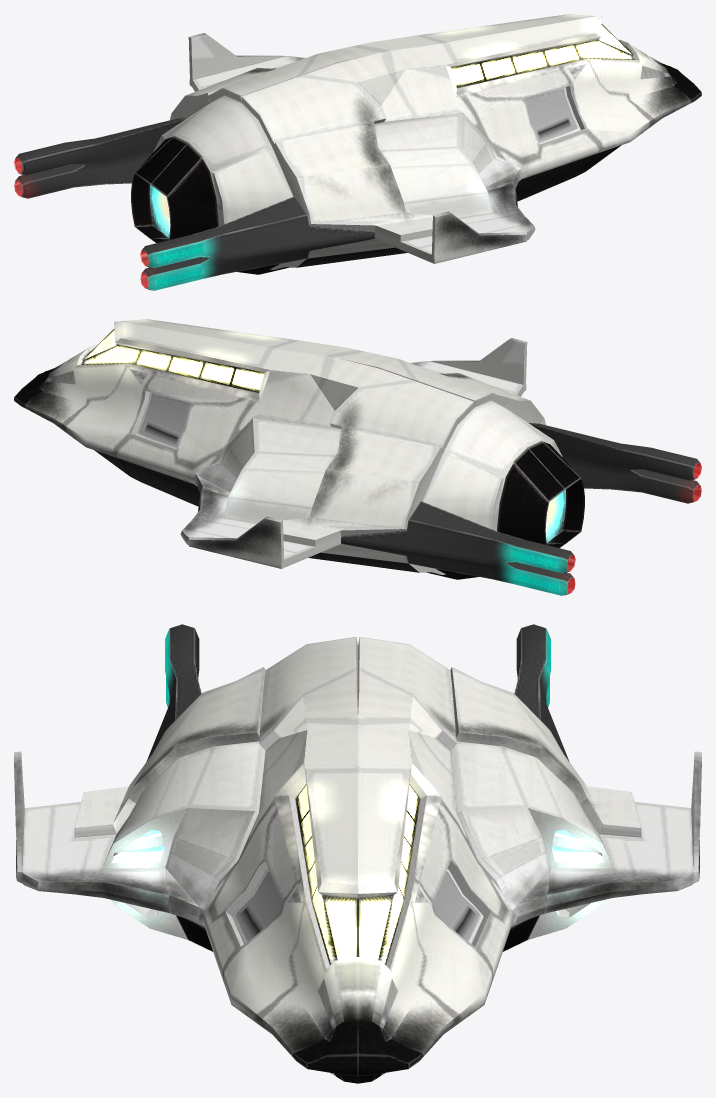
Rendered from env_shuttle.glb.
3 renders of one model, top to bottom at view 1: azimuth 30°, elevation 25°; view 2: azimuth 150°, elevation 25°; view 3: azimuth 270°, elevation 25°, orthographic. The views are drawn at different scales.
Visible parts, largest first — view 1: Cube; view 2: Cube; view 3: Cube.
Boxes of the visible parts, <box> form: Cube: <box>14,14,701,290</box>; Cube: <box>14,319,701,595</box>; Cube: <box>14,624,701,1083</box>.
Bounding box in the file's own units: 1327 × 382 × 943.
1 material, 1 textured.
